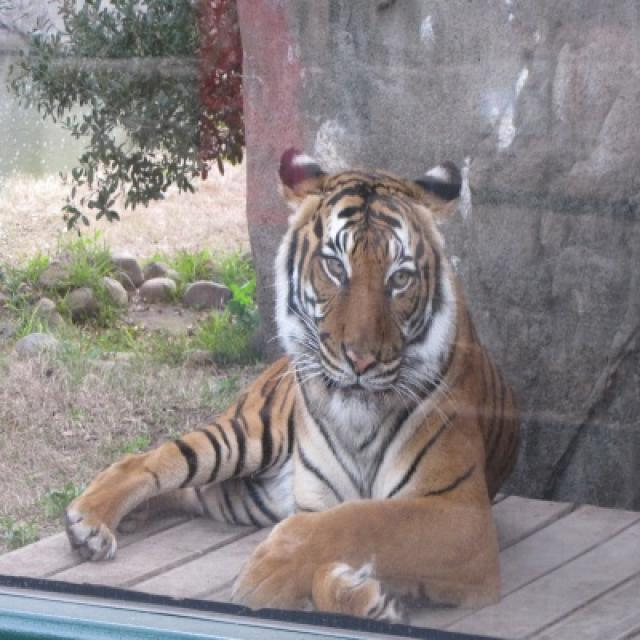Tiger: (66, 147, 517, 621)
